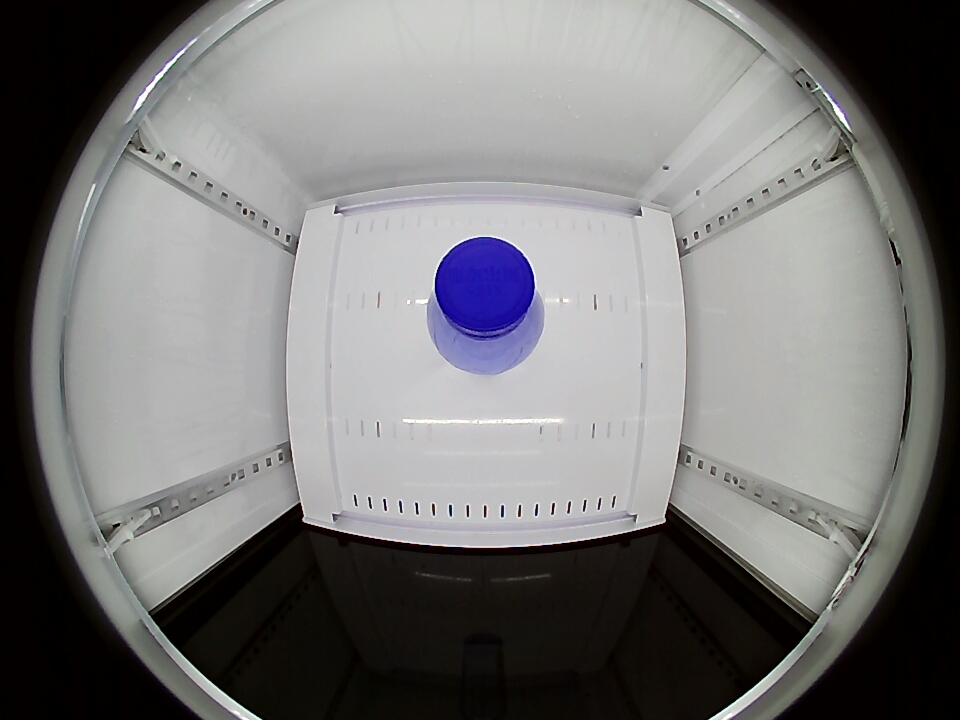aerbeisi: (428, 236, 544, 374)
